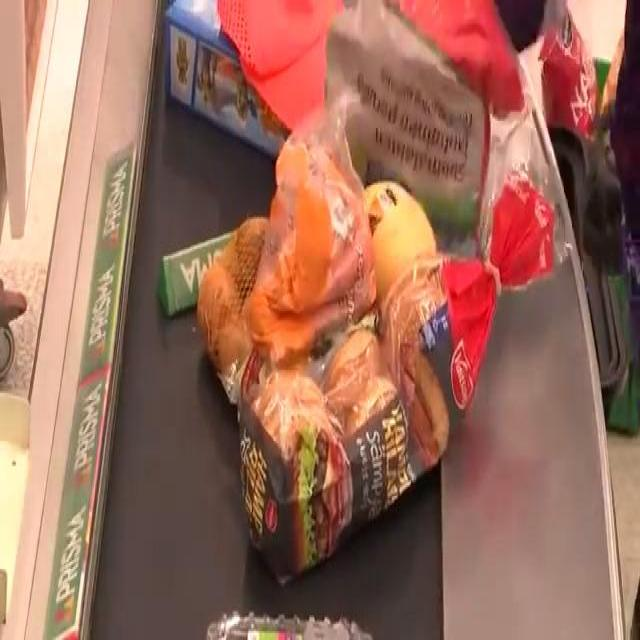food-box: (250, 256, 500, 580), (332, 0, 507, 260), (206, 176, 374, 412), (165, 0, 332, 162)
fruit: (361, 171, 444, 305)
